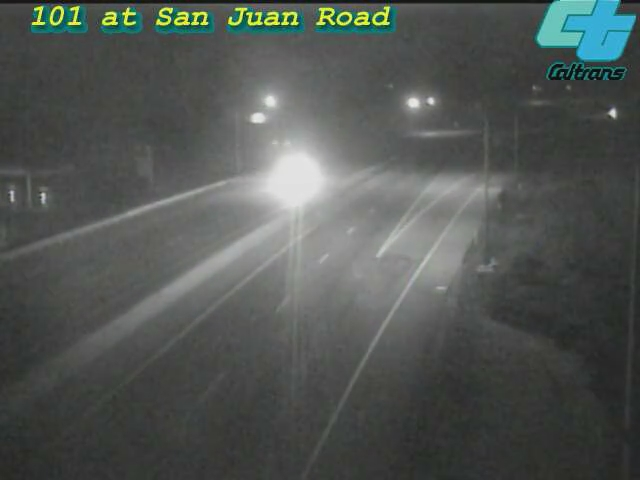vehicle: (249, 139, 329, 219), (589, 88, 639, 138)
